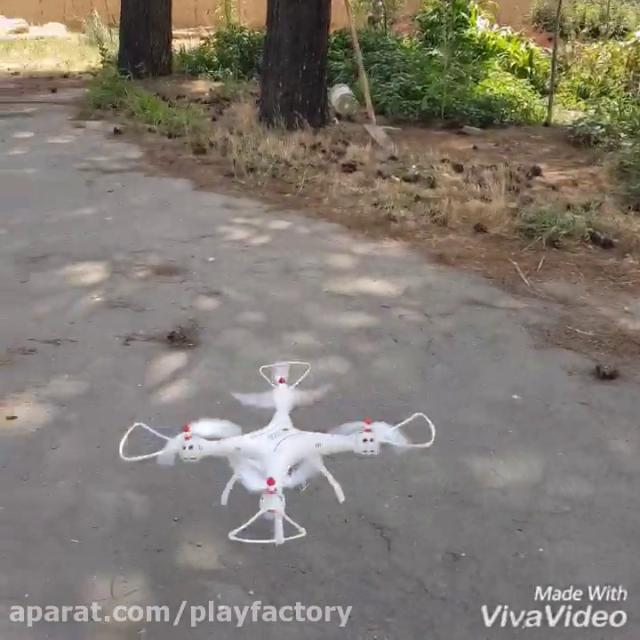drone: (116, 361, 436, 547)
